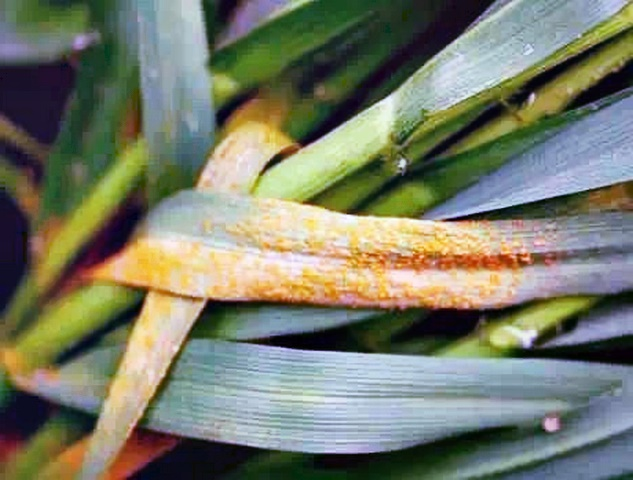Leaf Rust: (215, 204, 537, 310)
